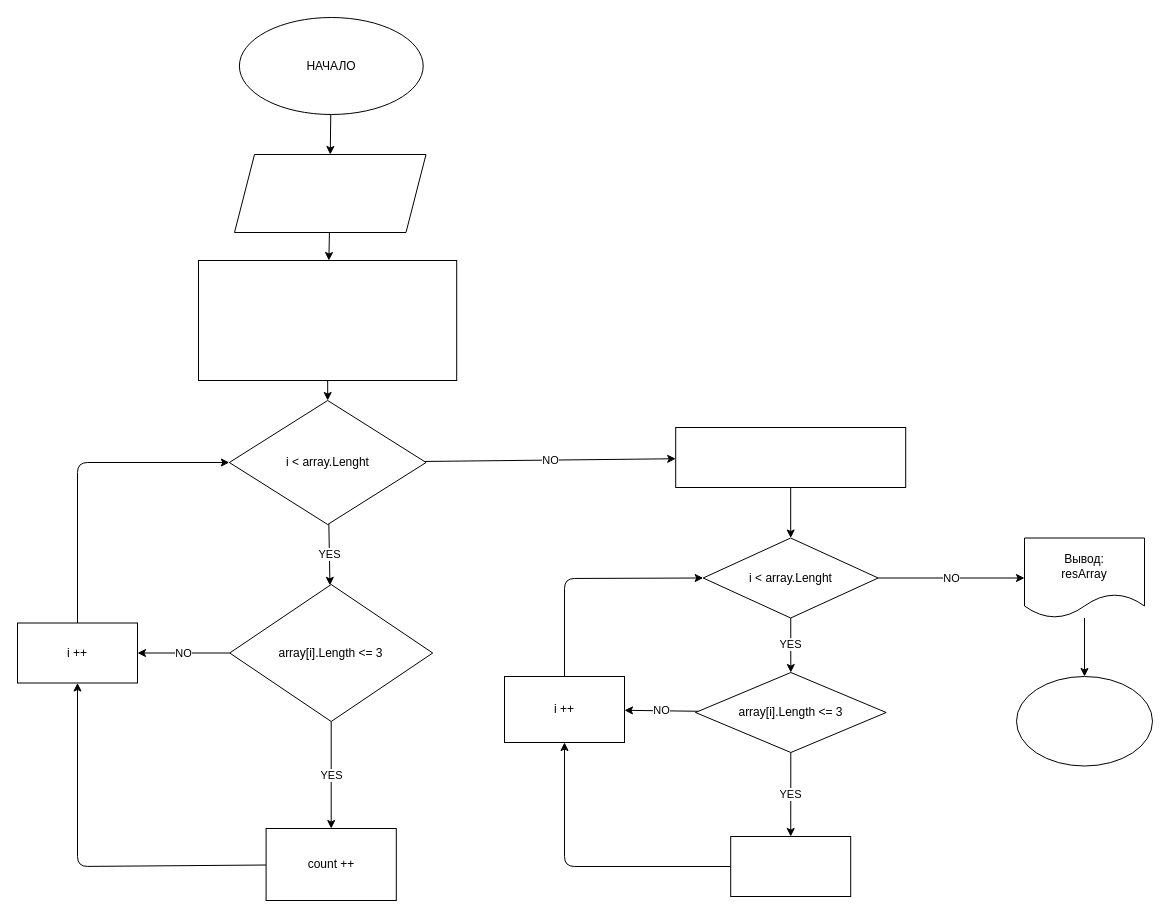
This 1170x918 diagram has some shape labels left out. Each missing label, with the box of its shape:
count = 0 int i = 0: (198, 260, 457, 380)
int i = 0 int j = 0 string [] resArray = new string [count]: (675, 426, 906, 488)
resArray[j] = array[i] j ++: (730, 836, 851, 896)
Ввод: string [] array: (234, 154, 426, 232)
КОНЕЦ: (1016, 676, 1152, 766)
